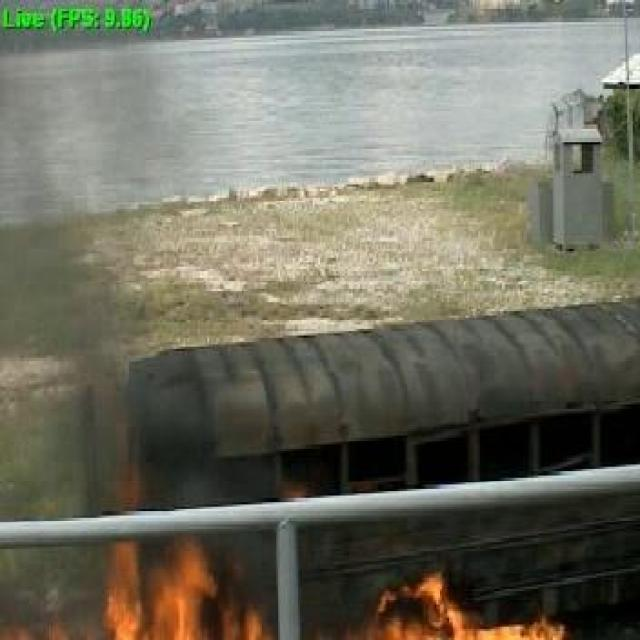Fire: (0, 428, 618, 634)
Smoke: (0, 31, 148, 423)
